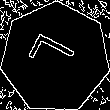L_SE: (27, 32, 84, 83)
